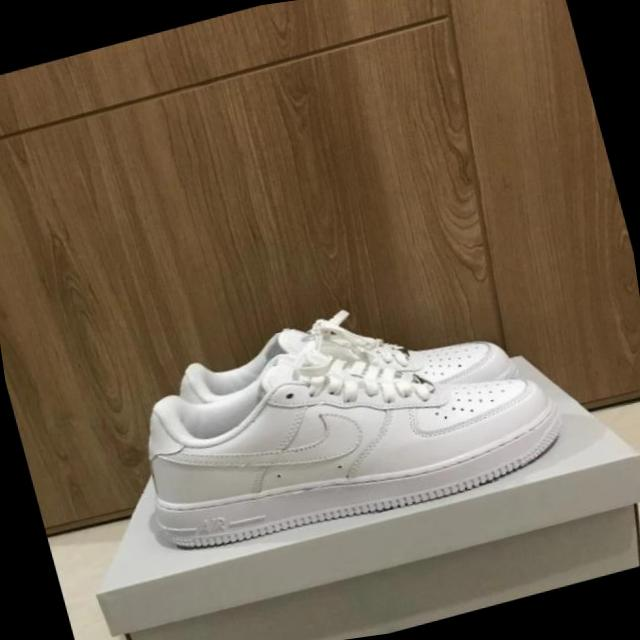nike_original_airforce: (113, 286, 586, 576), (167, 267, 530, 464)
